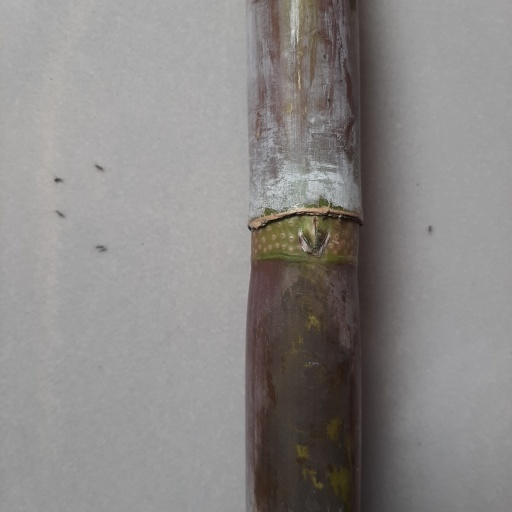Bud: (300, 217, 329, 256)
